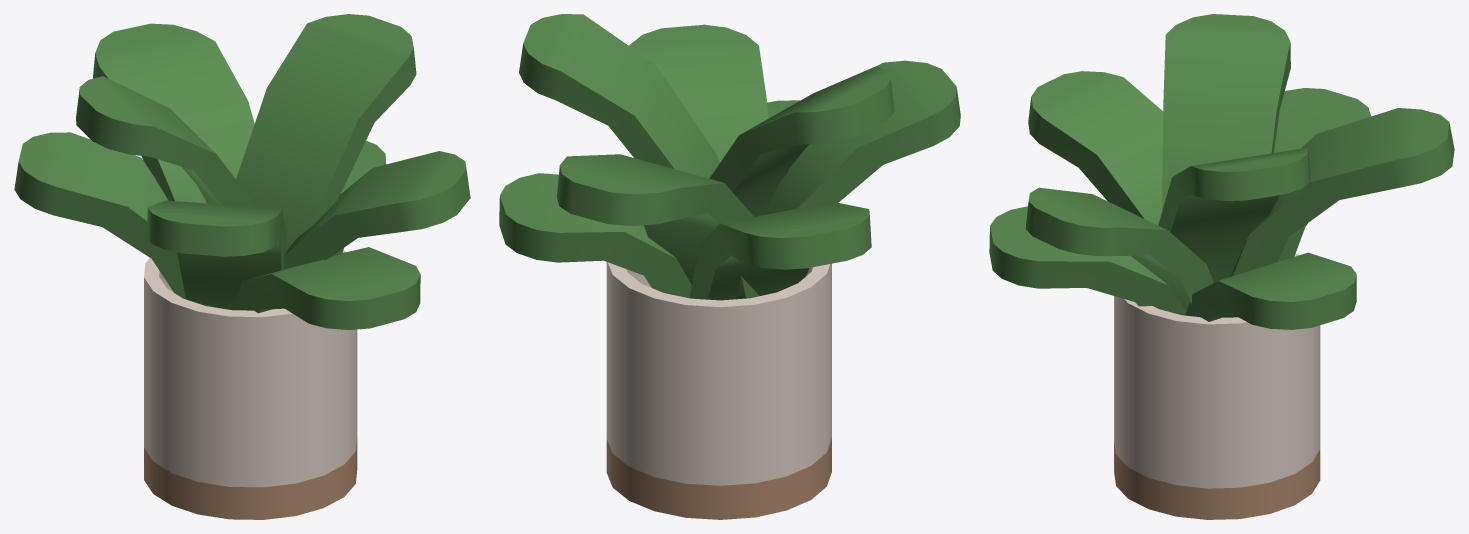
Rendered from PlantPotGeo.fbx.
3 views of the same model, side by side, from view 1: azimuth 30°, elevation 25°; view 2: azimuth 150°, elevation 25°; view 3: azimuth 270°, elevation 25° (orthographic). The views are drawn at different scales.
Parts seen in each view (by area): view 1: PlantPotGeo; view 2: PlantPotGeo; view 3: PlantPotGeo.
Part boxes in pixels (x1,y1,x2,y2): PlantPotGeo: (14, 14, 470, 519); PlantPotGeo: (499, 14, 960, 519); PlantPotGeo: (989, 14, 1454, 519).
Size of the model in its own units: 221 by 241 by 262.
